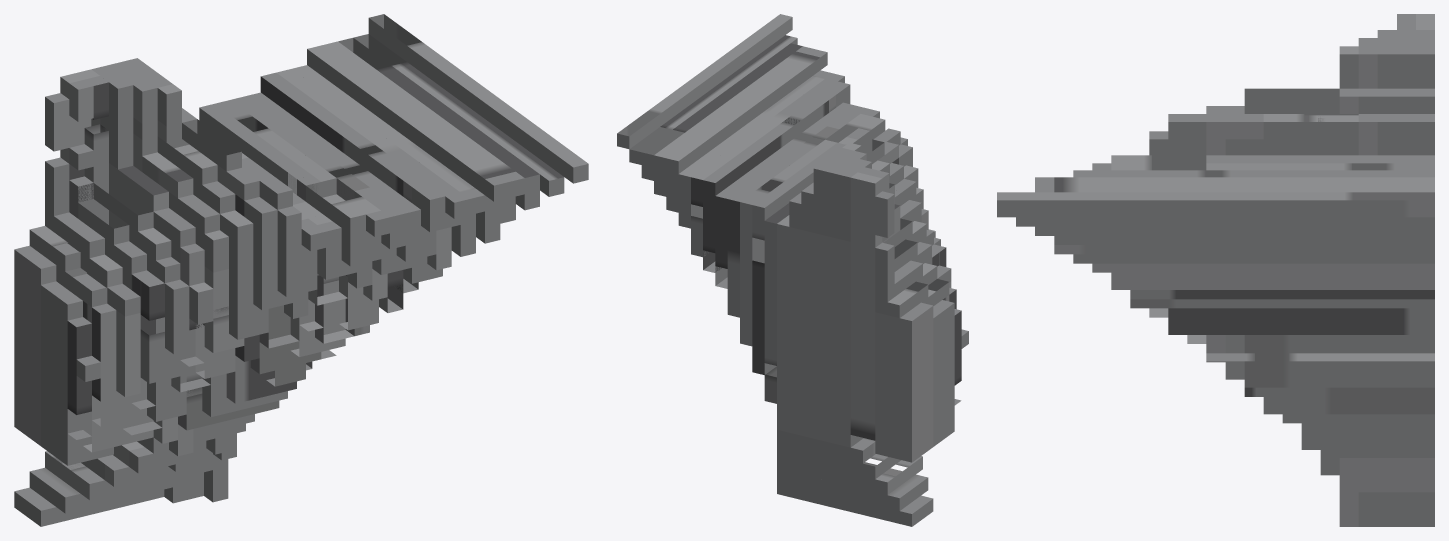
The picture shows the model from 3 angles, left to right: view 1: azimuth 30°, elevation 25°; view 2: azimuth 150°, elevation 25°; view 3: azimuth 270°, elevation 25°; orthographic projection. The views are drawn at different scales.
Bounding box in the file's own units: 1 × 1.08 × 0.9583.
